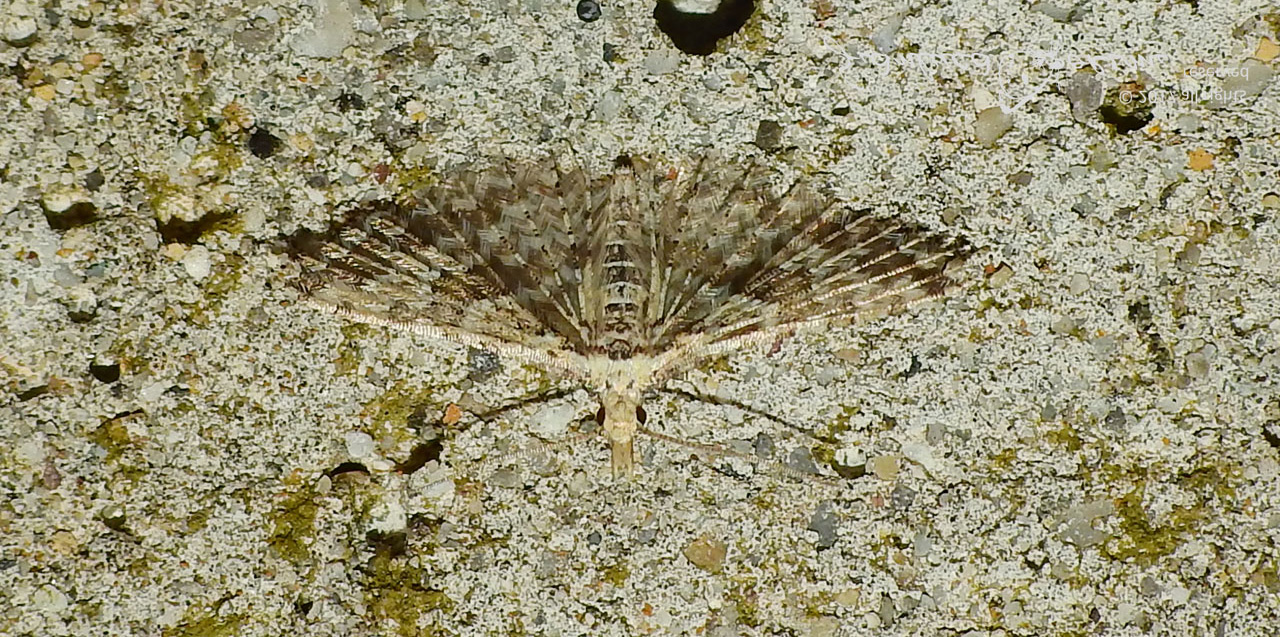Alucitidae: (272, 141, 994, 475)
moth: (274, 143, 996, 477)
